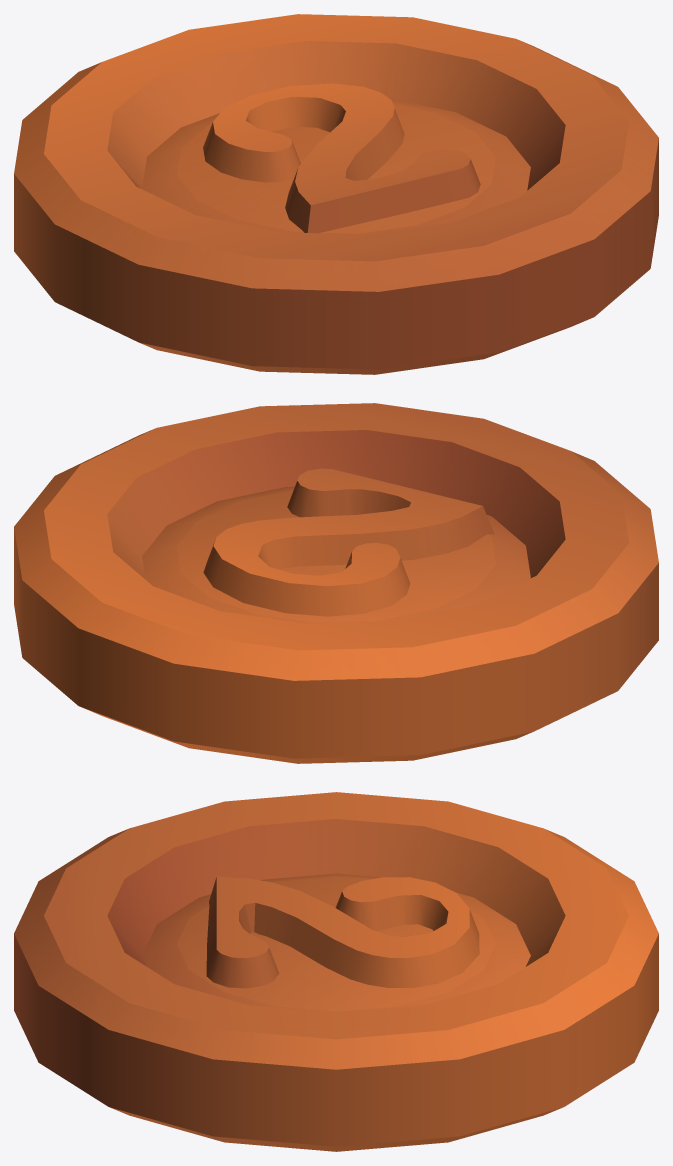
File: coin_2_copper.gltf
3 views of the same model, one above another, from view 1: azimuth 30°, elevation 25°; view 2: azimuth 150°, elevation 25°; view 3: azimuth 270°, elevation 25° (orthographic).
Visible parts, largest first — view 1: coin_2_copper; view 2: coin_2_copper; view 3: coin_2_copper.
Boxes of the visible parts, bbox=[...] form: coin_2_copper: bbox=[14, 14, 658, 374]; coin_2_copper: bbox=[14, 403, 658, 763]; coin_2_copper: bbox=[14, 792, 658, 1151].
Size of the model in its own units: 1.04 by 0.2 by 1.04.
1 material, 1 textured.
